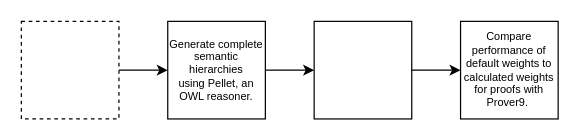
Some shapes in this 580 by 140 pixel diagram are drawn without their labels. Each missing label, with the centre of its shape:
Calculate predicate weights based on the semantic hierarchies.: the point at 362,69
Convert ontologies in Common Logic format to OWL format.: the point at 69,69
